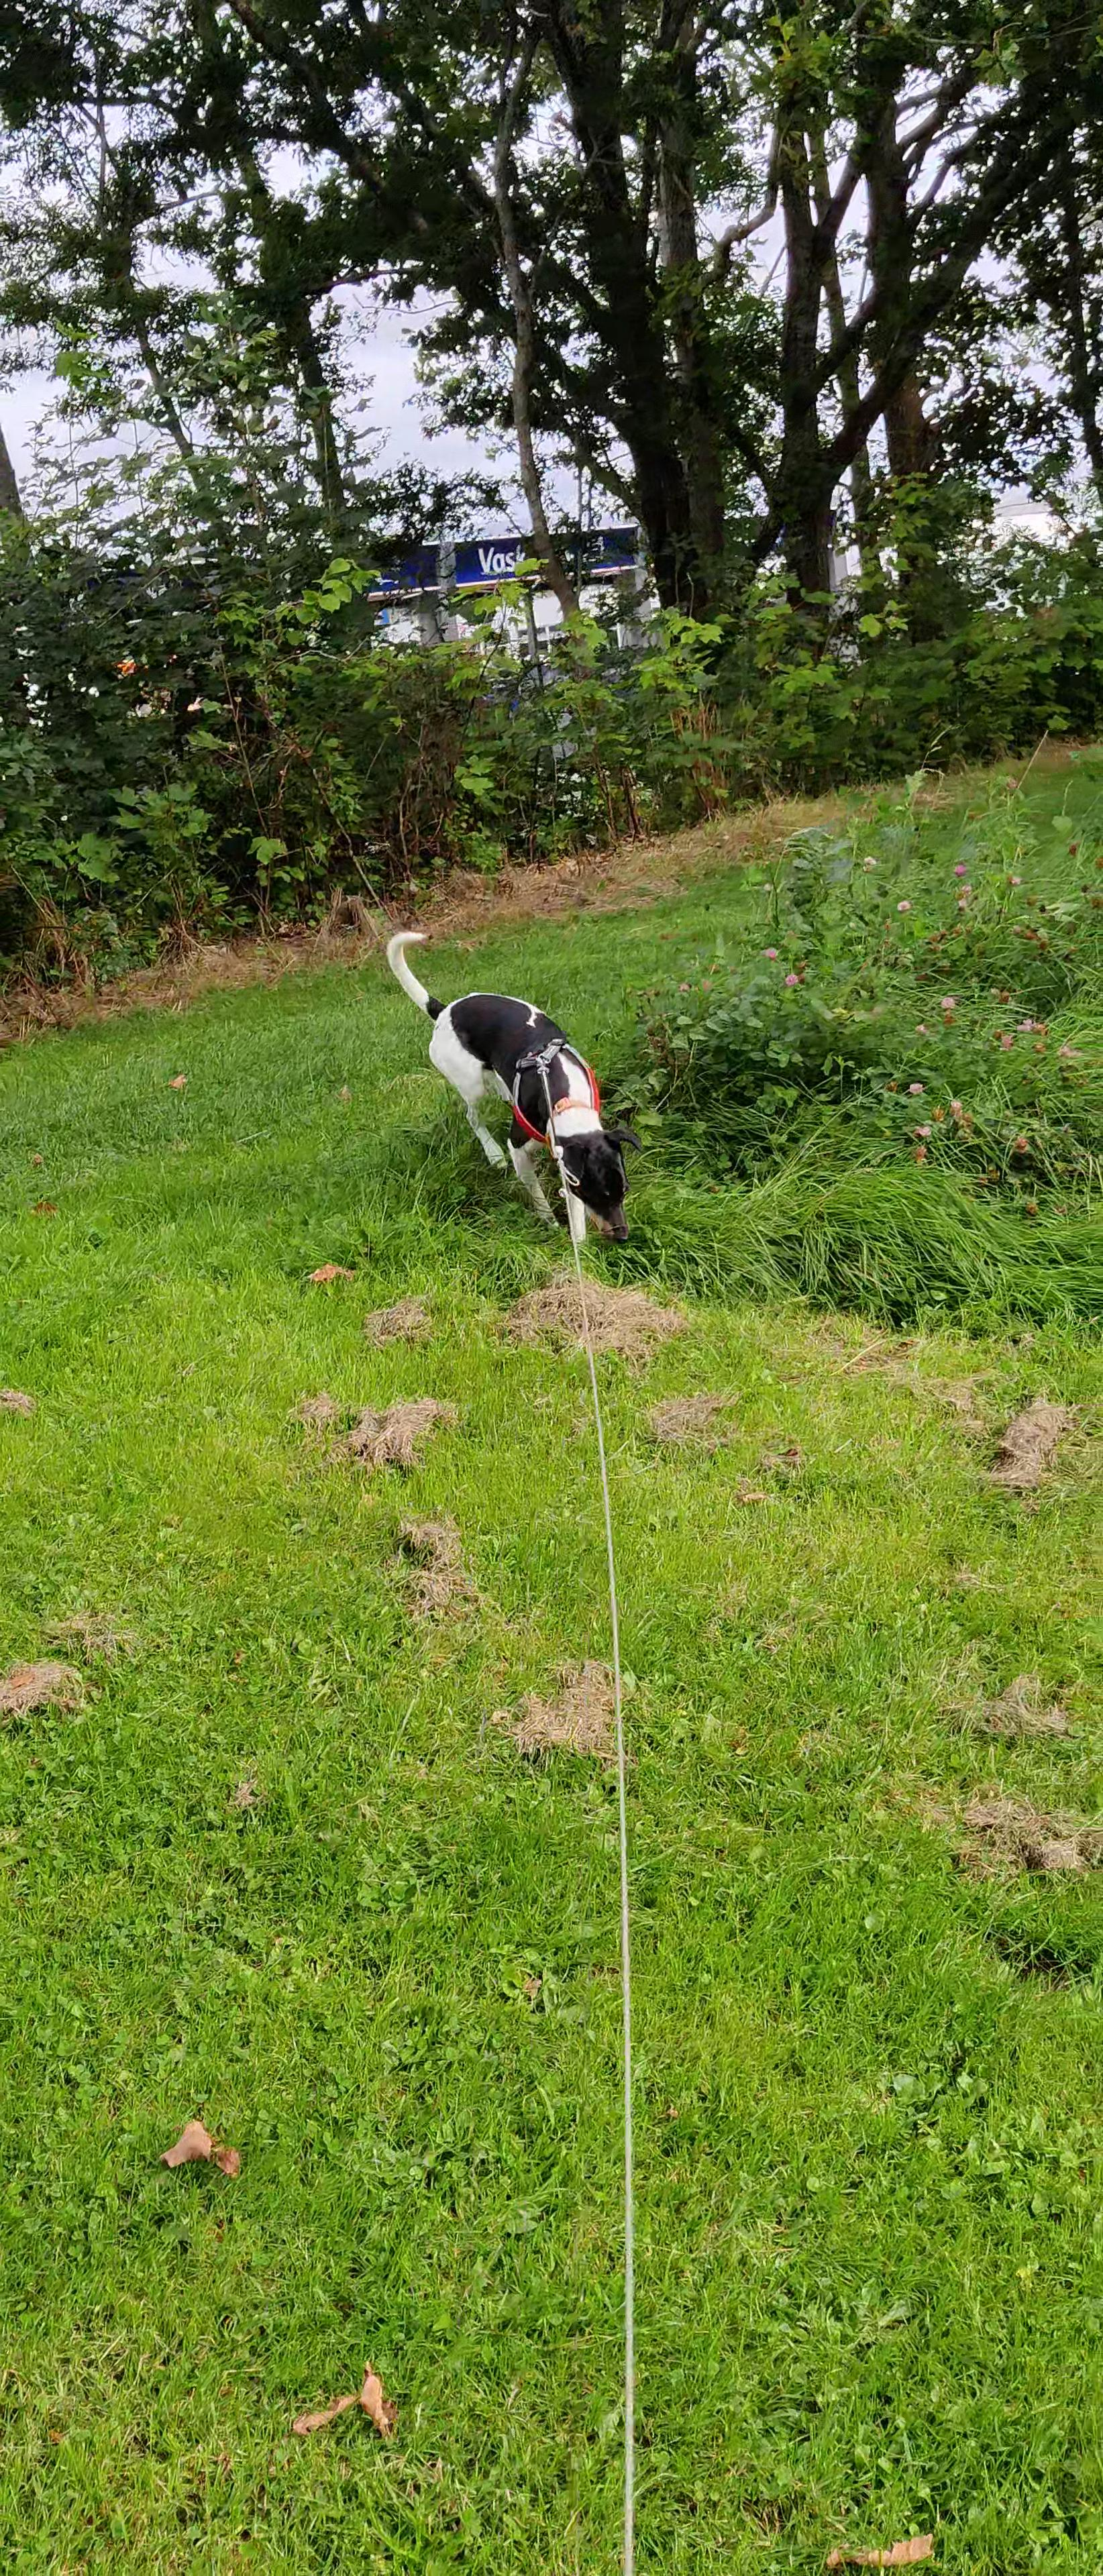Dog: (383, 927, 646, 1247)
